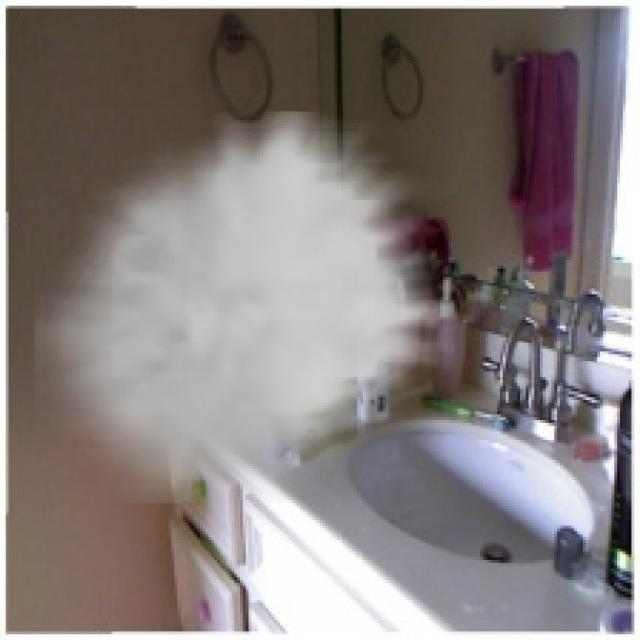smoke: (34, 111, 457, 503)
